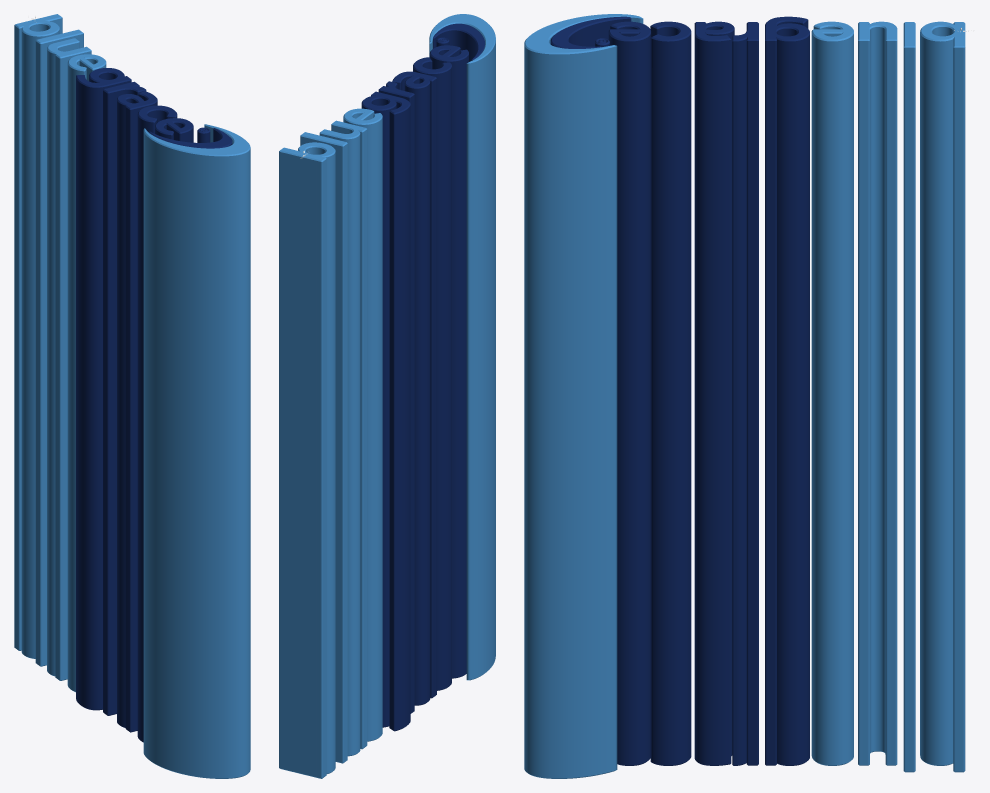
File: vertigo.glb
3 views of the same model, side by side, from view 1: azimuth 30°, elevation 25°; view 2: azimuth 150°, elevation 25°; view 3: azimuth 270°, elevation 25° (orthographic). The views are drawn at different scales.
Visible parts, largest first — view 1: bglogo; view 2: bglogo; view 3: bglogo.
Part boxes in pixels (x1,y1,x2,y2): bglogo: (14, 14, 250, 778); bglogo: (279, 14, 495, 778); bglogo: (524, 14, 965, 778).
Size of the model in its own units: 37.76 by 323 by 181.
